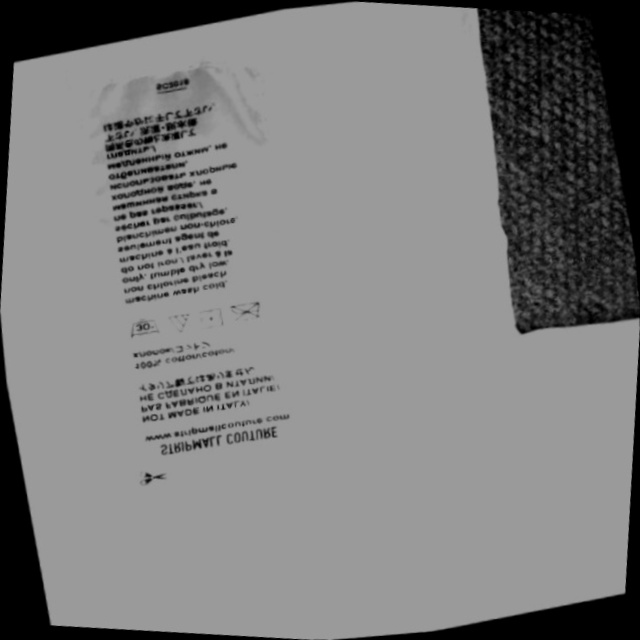30C: (122, 311, 164, 343)
DN_iron: (227, 294, 270, 331)
non_chlorine_bleach: (163, 308, 195, 337)
tumble_dry_low: (190, 302, 229, 334)
